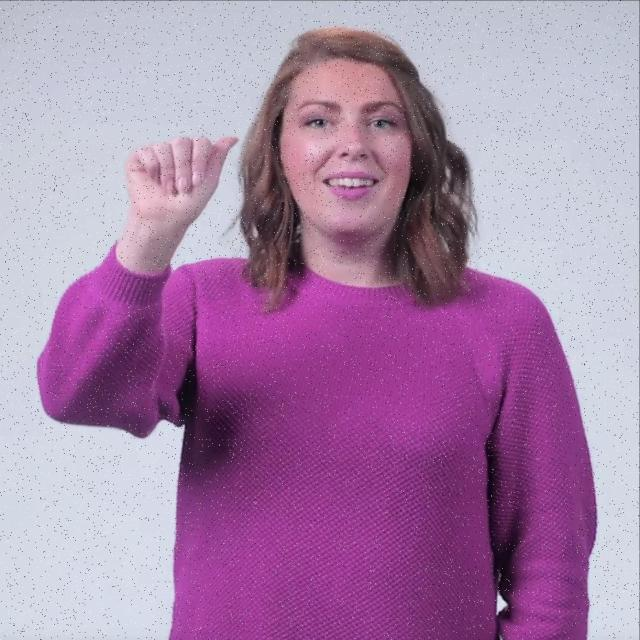A: (122, 131, 240, 228)
